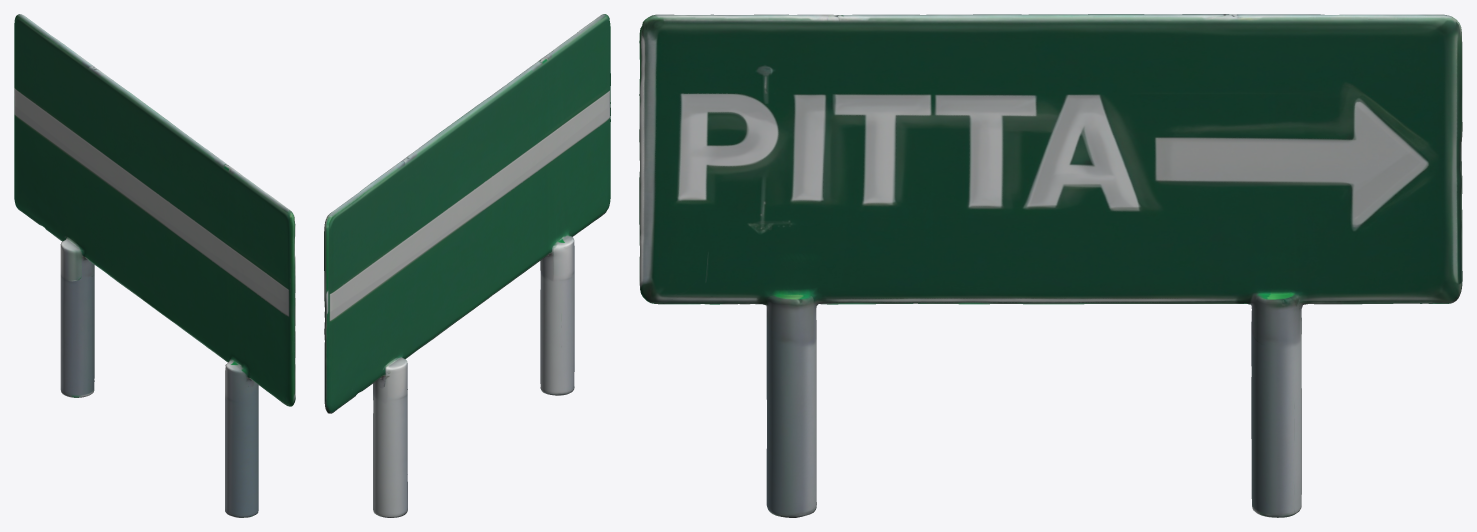
The model's file is pitta.glb.
3 views of the same model, side by side, from view 1: azimuth 30°, elevation 25°; view 2: azimuth 150°, elevation 25°; view 3: azimuth 270°, elevation 25° (orthographic). The views are drawn at different scales.
Bounding box in the file's own units: 0.1227 × 1.32 × 2.
1 material, 1 textured.
